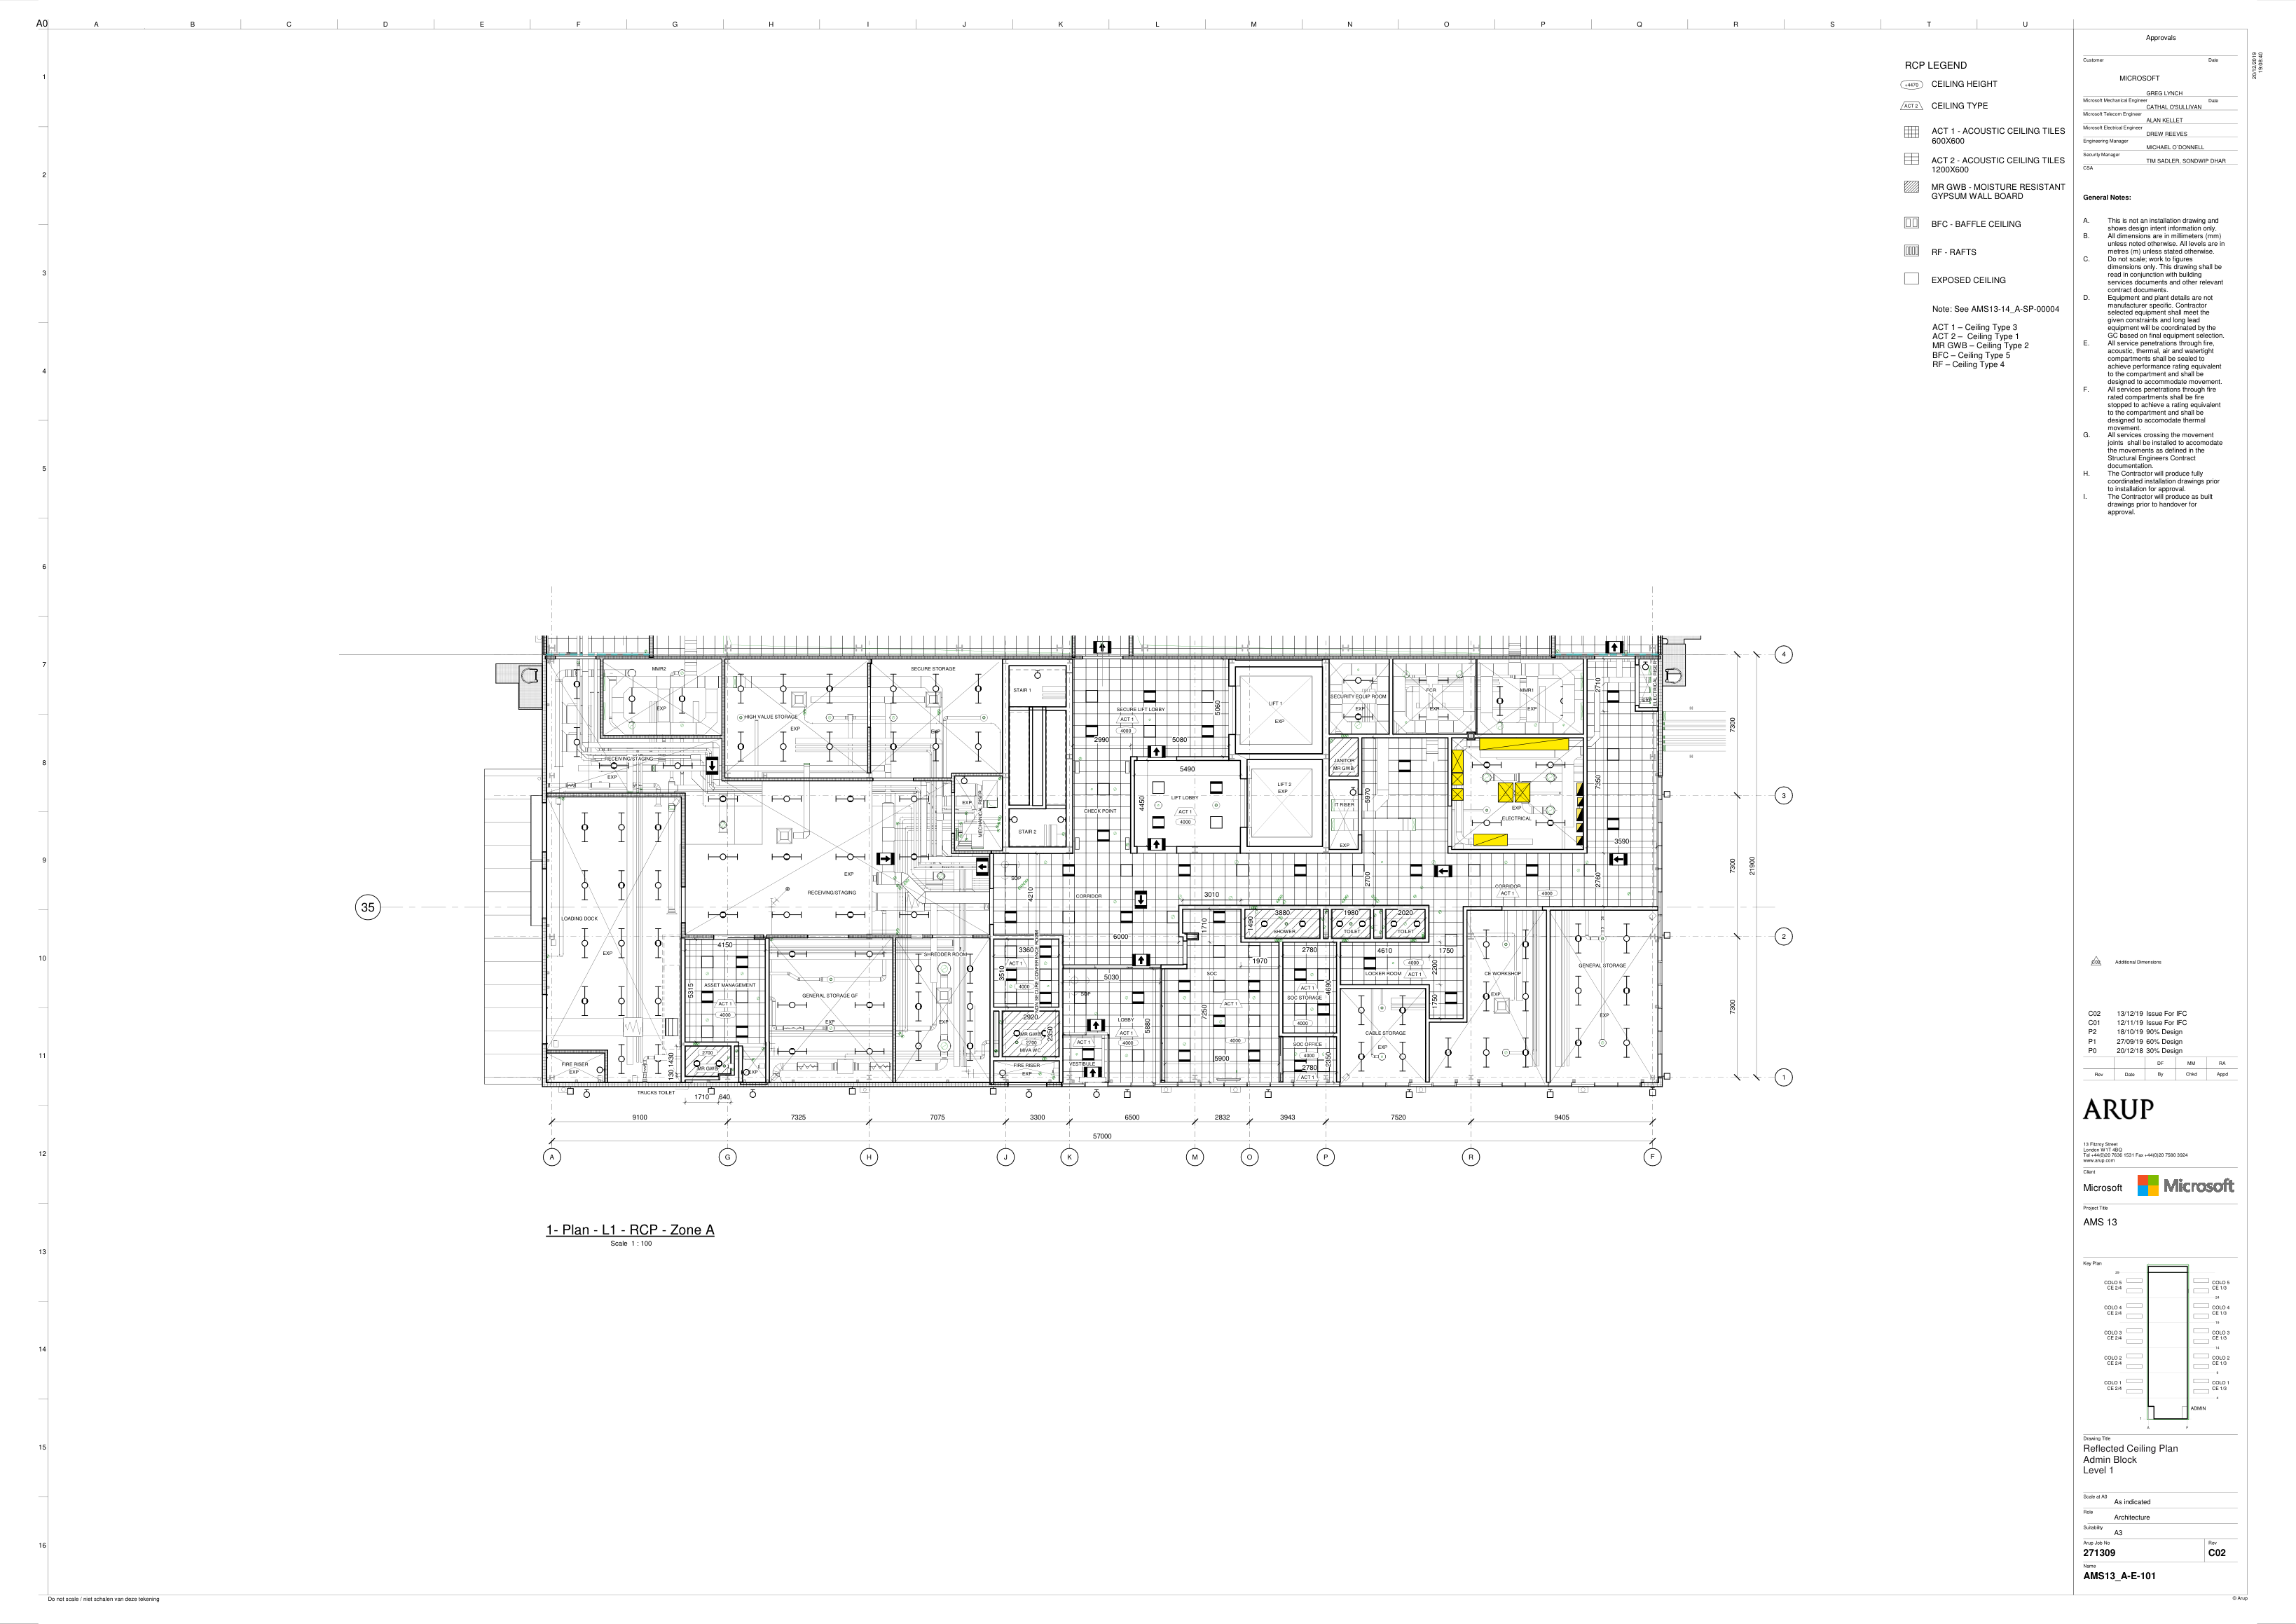Legend: (1897, 58, 2067, 369)
